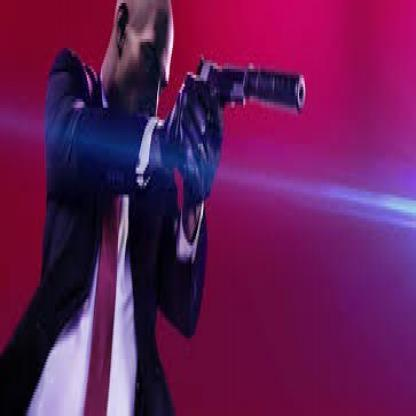Pistol: (194, 42, 305, 123)
